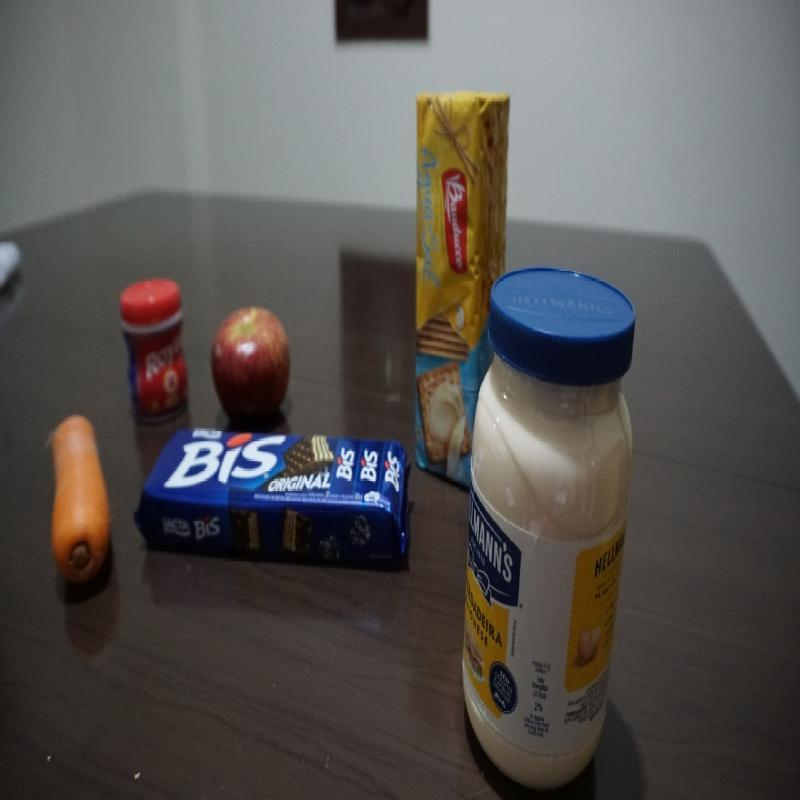Apple: (208, 302, 289, 427)
Carrot: (48, 408, 116, 590)
Cracker: (411, 87, 511, 500)
Mayonnaise: (460, 262, 640, 798)
Yeast: (116, 274, 190, 420)
